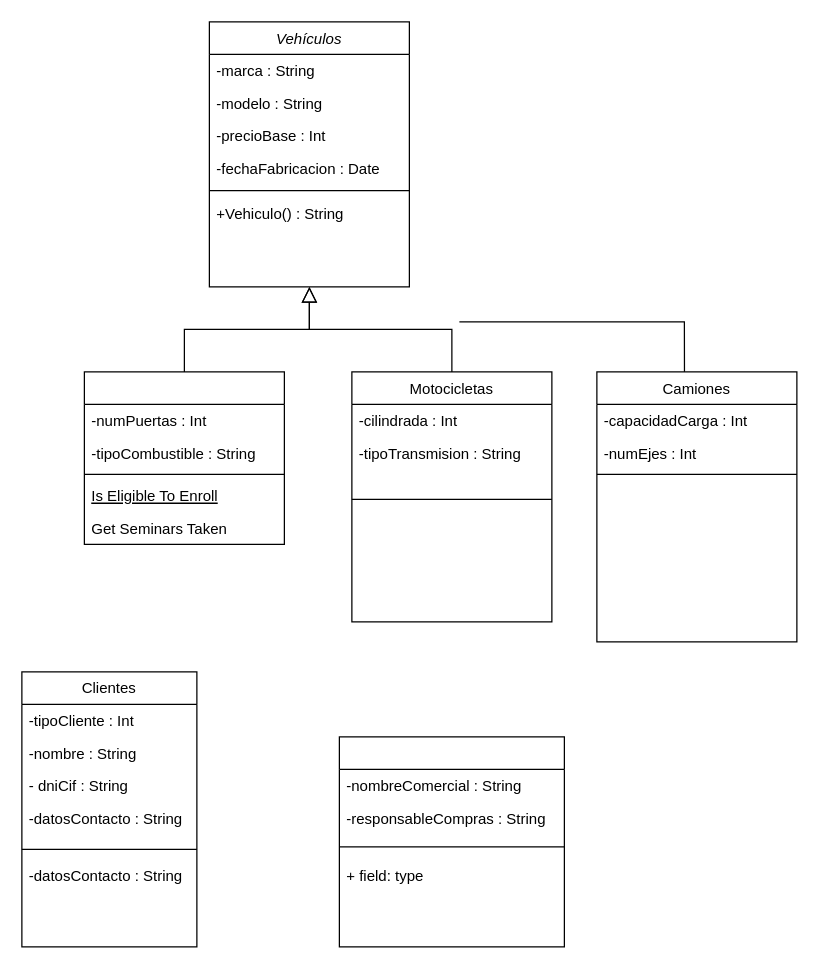
This 819x973 diagram has some shape labels left out. The shapes that lost their labels are listed below. From the top down, each one's box as (x1, y1, x2, y2) in pixels, then its label:
(83, 371, 284, 544): Coches
(338, 736, 564, 947): Empresa
